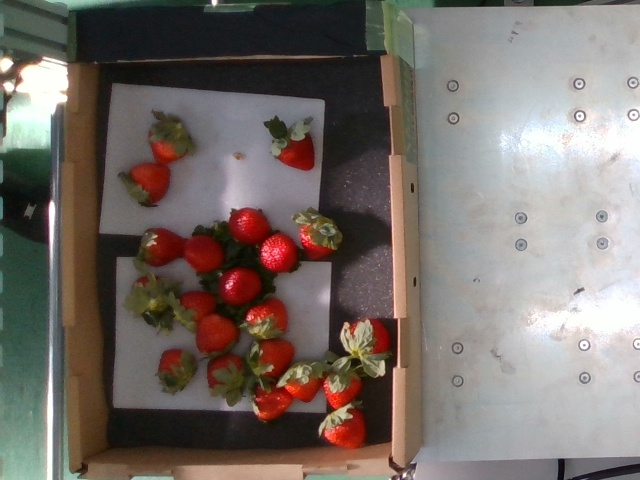strawberry: (271, 129, 316, 171), (345, 317, 390, 359), (129, 163, 172, 206), (324, 406, 367, 449), (148, 122, 189, 167), (244, 299, 290, 339), (251, 381, 295, 422), (197, 314, 238, 357), (143, 228, 189, 266), (252, 339, 294, 378), (323, 369, 362, 410), (182, 235, 224, 272), (220, 268, 261, 305), (300, 220, 335, 263), (285, 363, 322, 403), (229, 208, 269, 244), (260, 234, 297, 272), (133, 277, 170, 315), (207, 355, 245, 392), (158, 350, 193, 388), (179, 292, 216, 326)
